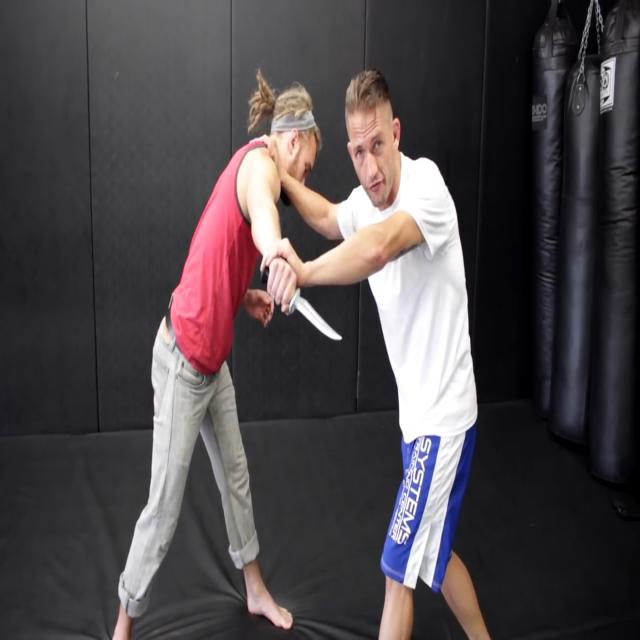knife: (292, 284, 344, 349)
